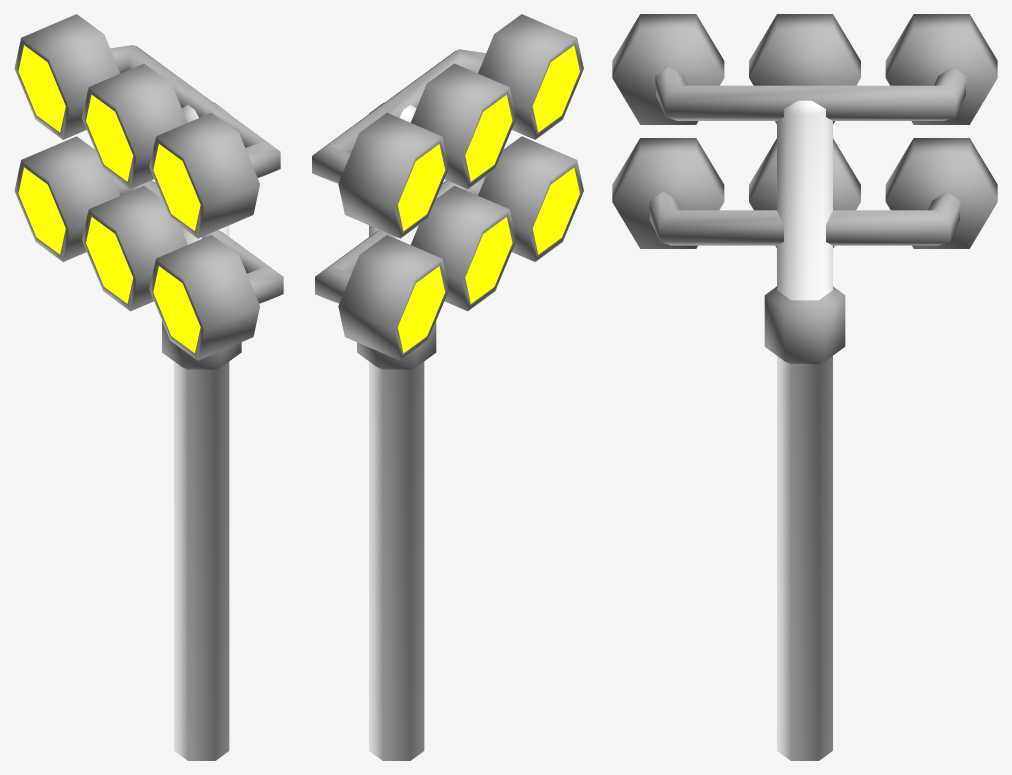
Rendered from LightB.fbx.
3 renders of one model, left to right at view 1: azimuth 30°, elevation 25°; view 2: azimuth 150°, elevation 25°; view 3: azimuth 270°, elevation 25°, orthographic.
Visible parts, largest first — view 1: Build_LightB; view 2: Build_LightB; view 3: Build_LightB.
Part boxes in pixels (x1,y1,x2,y2): Build_LightB: (14, 14, 283, 760); Build_LightB: (312, 14, 583, 760); Build_LightB: (612, 14, 997, 760).
Bounding box in the file's own units: 1128 × 443 × 2253.
